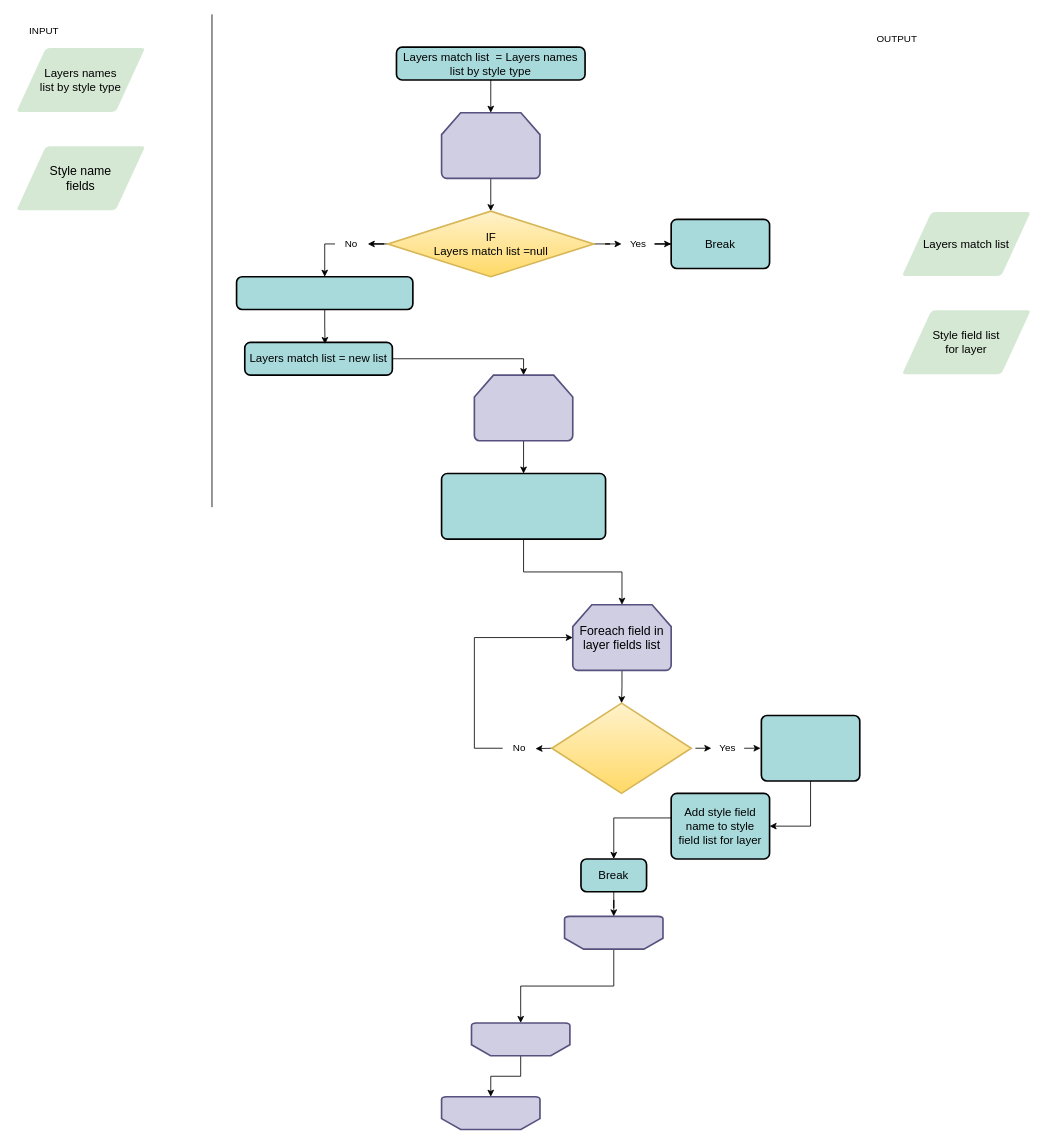
Image size: 1046x1145. Some labels were removed from this diagram. The shapes that lost their labels are listed below. From the top down, each one's box as (x1, y1, x2, y2) in pixels, then its label:
(440, 112, 540, 179): Foreach field in style fields list
(235, 276, 413, 310): Layers list = Layers match list
(473, 374, 573, 441): Foreach name in layers list
(440, 472, 606, 540): Get list of fields of the layer name without fields 1, 3, 5
(551, 702, 692, 794): IF style field name = layer field name
(760, 714, 860, 781): Add layer name to layers match list
